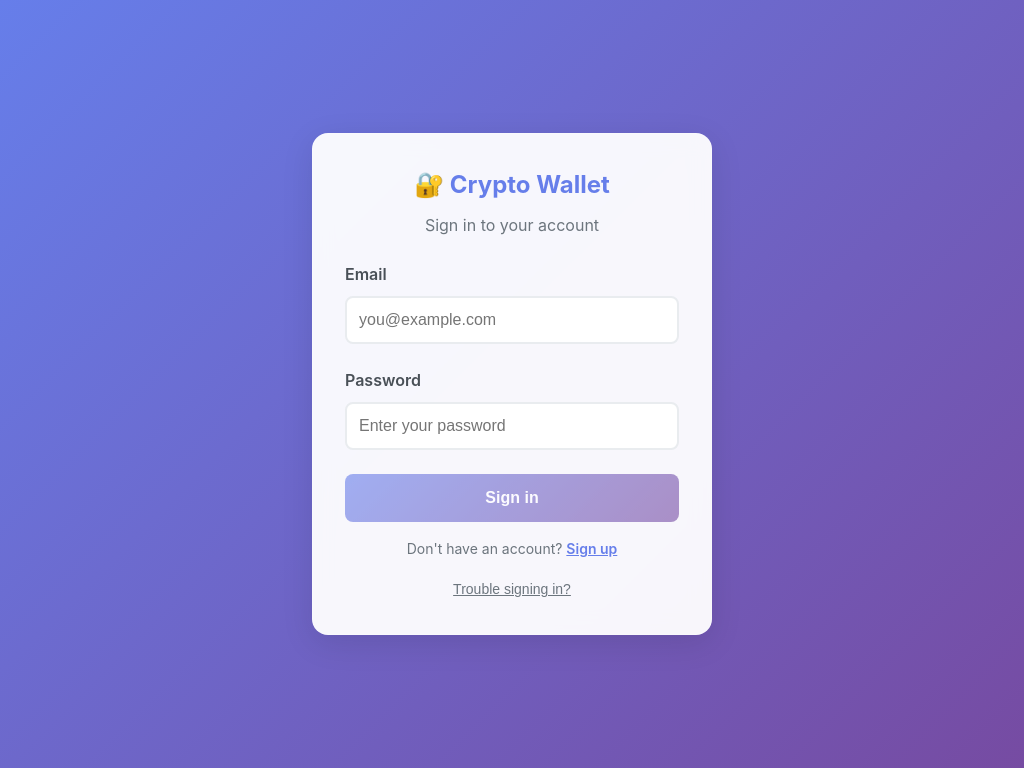
SignIn page › shows "Invalid email or password" on a 401 with no body
The image size is (1024, 768).
Step 1. Type "admin@cryptowall.local" into the field labelled "Email" → (512, 320), box [345, 296, 679, 344]
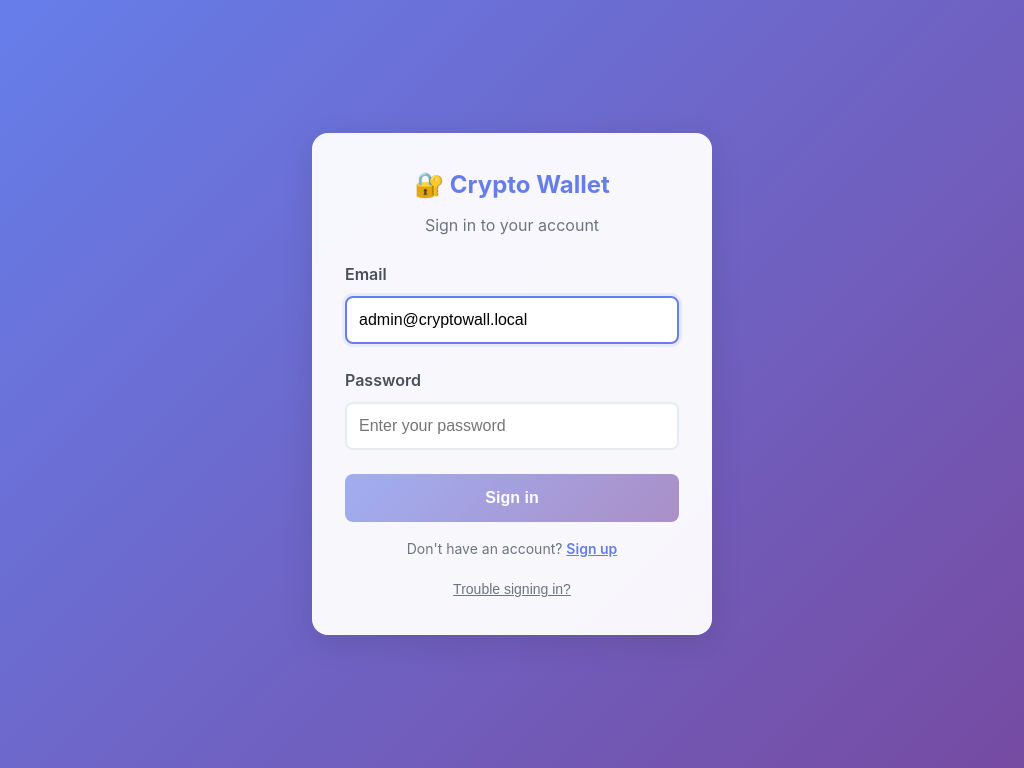
Step 2. Type "wrong" into the password field labelled "Password" → (512, 426), box [345, 402, 679, 450]
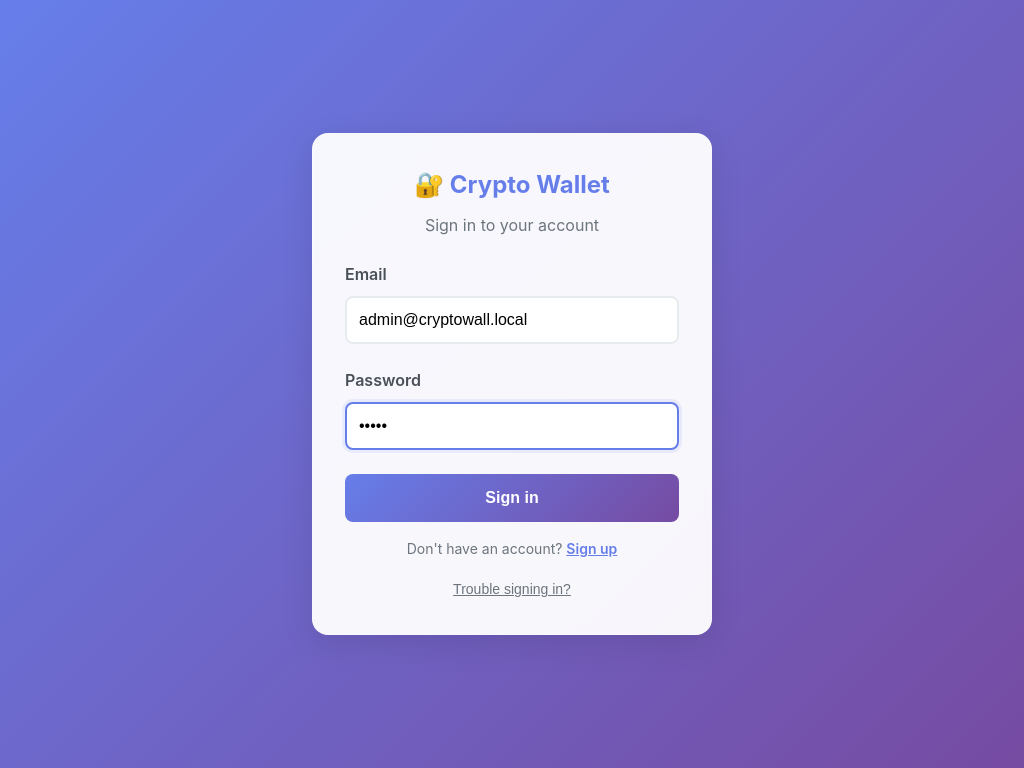
Step 3. Click the button "Sign in" → (512, 498), box [345, 474, 679, 522]
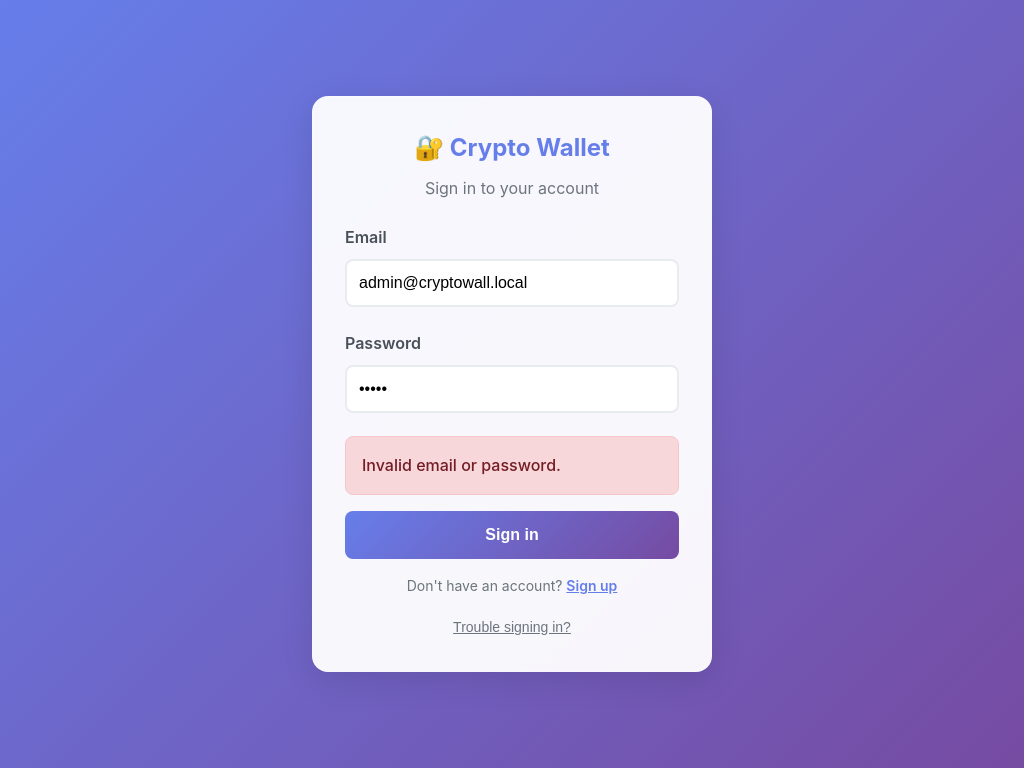
Expected: the message shows "Invalid email or password", [362, 455, 561, 475]
